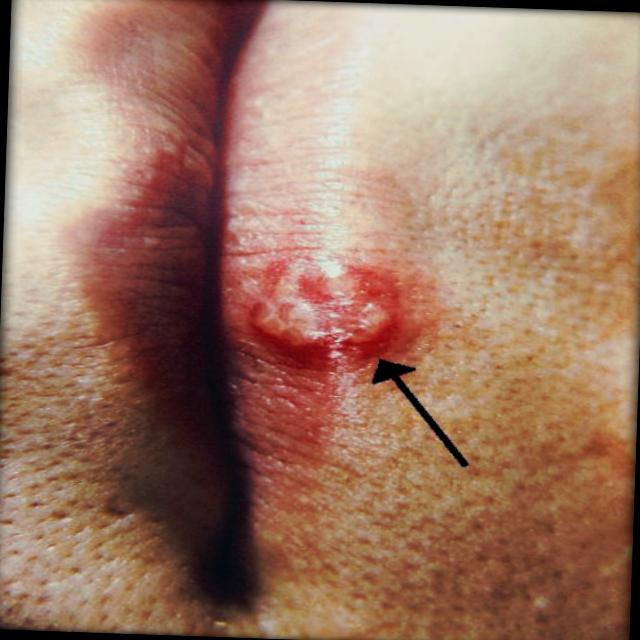Cancer: (230, 238, 432, 372)
